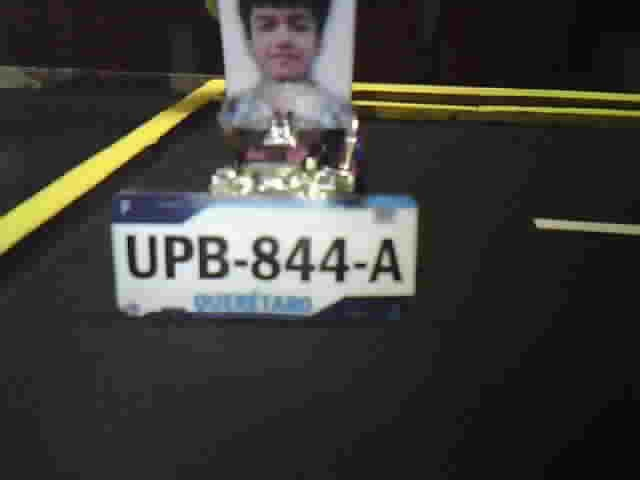PLACA: (109, 189, 420, 324)
ROSTRO: (227, 1, 351, 129)
